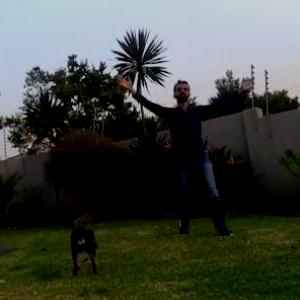takeoff: (126, 84, 242, 226)
